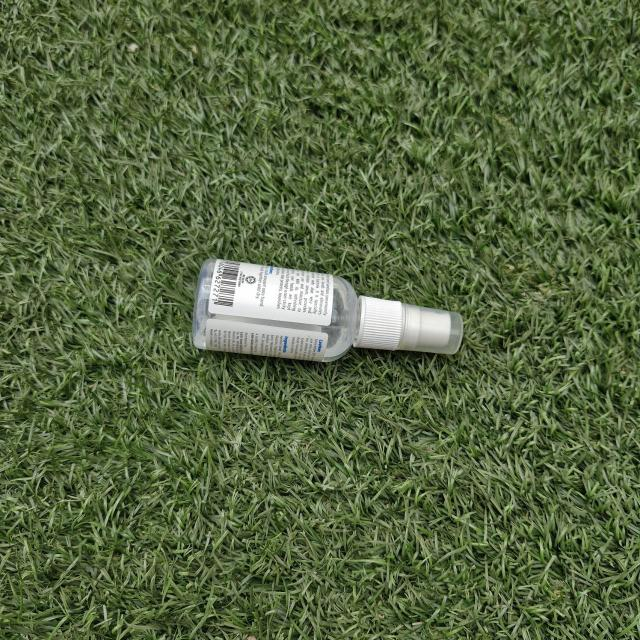plastic: (180, 246, 472, 374)
